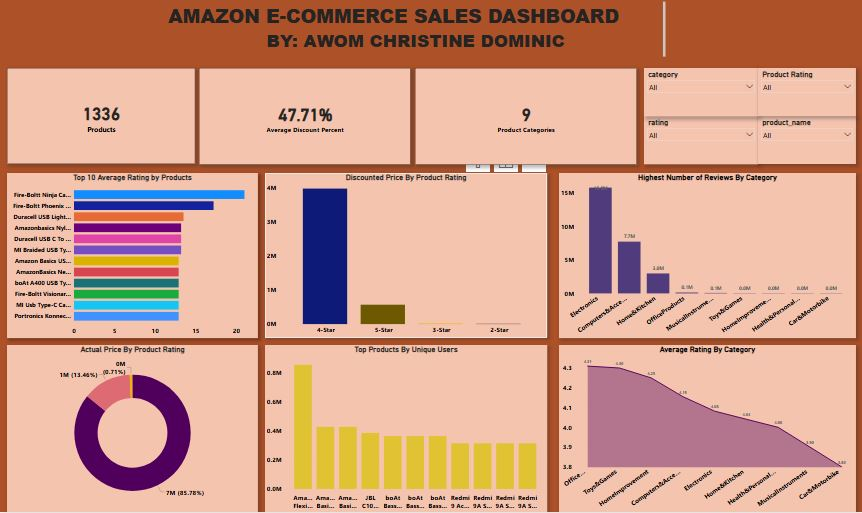

The page's visual inventory and layout, read from the dashboard file:
{"tool":"powerbi","page":{"name":"Dashboard","canvas":[2700,1600],"ordinal":0},"visuals":[{"type":"barChart","title":"Top 10 Average Rating by Products","fields":{"Category":["Table3.product_name"],"Series":["Table3.product_name"],"Y":["Sum(Table3.rating)"]},"box":[21.9,540.6,784.4,515.6],"z":0},{"type":"donutChart","title":"Actual Price By Product Rating","fields":{"Y":["Sum(Table3.Actual_price)"],"Category":["Table3.Product Rating"]},"box":[21.9,1078.1,784.4,521.9],"z":1000},{"type":"columnChart","title":"Discounted Price By Product Rating","fields":{"Category":["Table3.Product Rating"],"Y":["Sum(Table3.Discounted_price)"]},"box":[828.3,541.7,881.9,513.4],"z":2000},{"type":"areaChart","title":"Average Rating By Category","fields":{"Category":["Table3.category"],"Y":["Avg(Table3.rating)"]},"box":[1746.9,1078.1,928.1,521.9],"z":3000},{"type":"columnChart","title":"Highest Number of Reviews By Category","fields":{"Category":["Table3.category"],"Y":["Sum(Table3.Rating_count)"]},"box":[1746.9,540.6,928.1,515.6],"z":4000},{"type":"lineStackedColumnComboChart","title":"Top Products By Unique Users","fields":{"Category":["Table3.product_name"],"Y":["Sum(Table3.Rating_count)"]},"box":[828.3,1077.2,881.9,522.8],"z":5000},{"type":"textbox","box":[518.8,0,1565.6,184.4],"z":6000},{"type":"card","fields":{"Values":["Count(Table3.product_name)"]},"box":[21.9,212.5,587.5,300],"z":7000},{"type":"card","fields":{"Values":["Avg(Table3.discount_percentage)"]},"box":[620.5,211,661.4,302.4],"z":8000},{"type":"card","fields":{"Values":["Count(Table3.category)"]},"box":[1297.6,211,692.9,302.4],"z":9000},{"type":"slicer","fields":{"Values":["Table3.rating"]},"box":[2012.6,362.2,355.9,151.2],"z":10000},{"type":"slicer","fields":{"Values":["Table3.product_name"]},"box":[2368.8,362.5,306.2,150],"z":11000},{"type":"slicer","fields":{"Values":["Table3.category"]},"box":[2012.6,211,355.9,151.2],"z":12000},{"type":"slicer","fields":{"Values":["Table3.Product Rating"]},"box":[2368.8,212.5,306.2,150],"z":13000}]}

Visuals, with their boxes in screenshot pixels (x1, y1, x2, y2), scaled from the page's 2700x1600 canvas onto the 862x513 screenshot:
"Top 10 Average Rating by Products" barChart: crop(7, 173, 257, 339)
"Actual Price By Product Rating" donutChart: crop(7, 346, 257, 512)
"Discounted Price By Product Rating" columnChart: crop(264, 174, 546, 338)
"Average Rating By Category" areaChart: crop(558, 346, 854, 512)
"Highest Number of Reviews By Category" columnChart: crop(558, 173, 854, 339)
"Top Products By Unique Users" lineStackedColumnComboChart: crop(264, 345, 546, 512)
textbox: crop(166, 0, 665, 59)
card - Count(Table3.product_name): crop(7, 68, 195, 164)
card - Avg(Table3.discount_percentage): crop(198, 68, 409, 165)
card - Count(Table3.category): crop(414, 68, 635, 165)
slicer - Table3.rating: crop(643, 116, 756, 165)
slicer - Table3.product_name: crop(756, 116, 854, 164)
slicer - Table3.category: crop(643, 68, 756, 116)
slicer - Table3.Product Rating: crop(756, 68, 854, 116)
